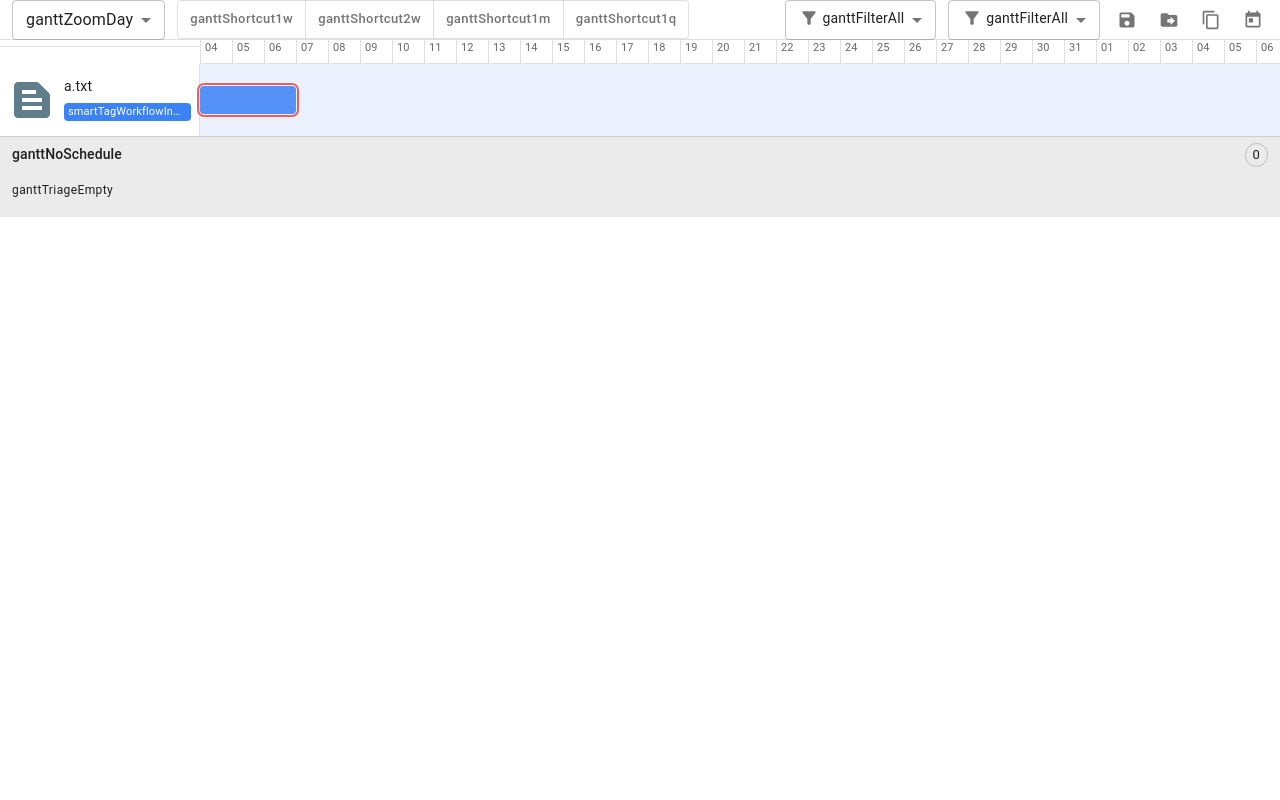
GanttView #12: left-click taskbar pops the period dialog › opens PeriodTagDialog with the entry current period on single-click
The image size is (1280, 800).
Press the mouse on the element named "ganttOverdue" at {"x": 248, "y": 100}, box [200,86,296,114]
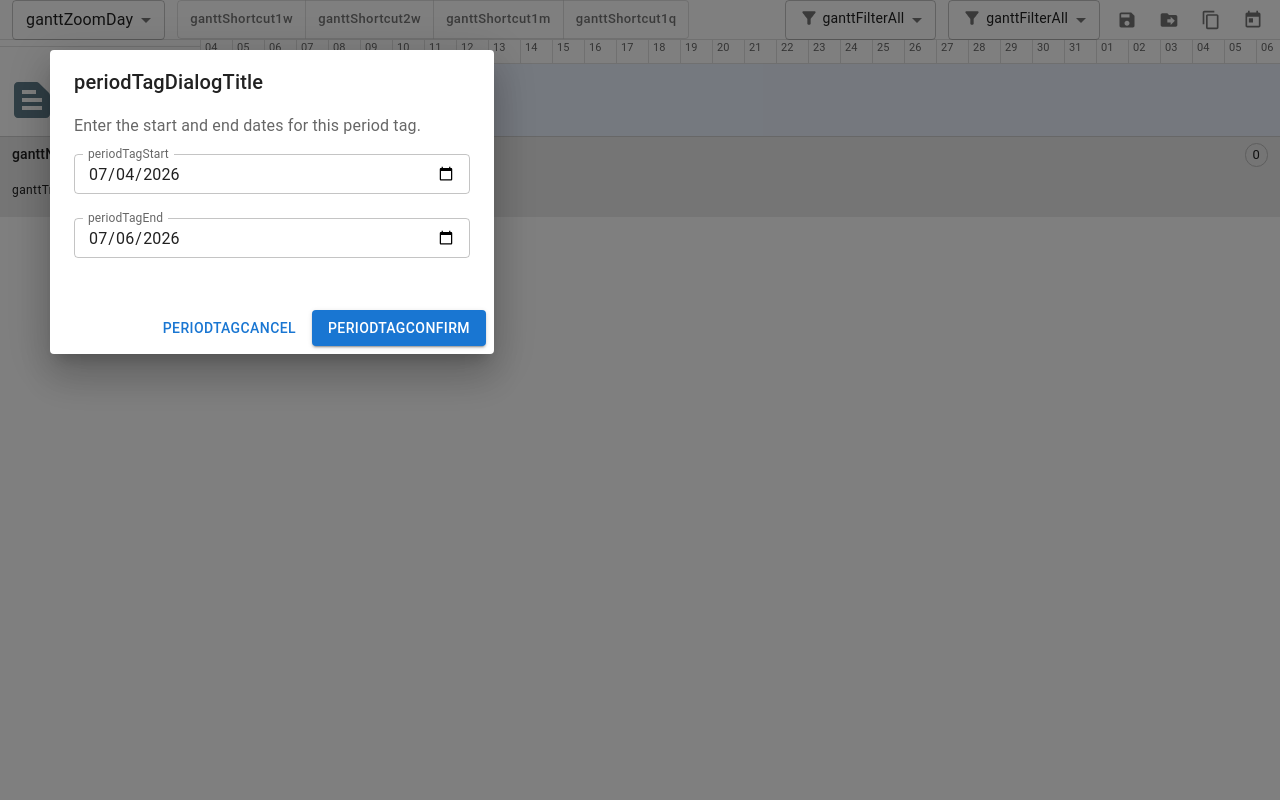
Now the element with test id "period-tag-dialog" is shown
Now the date field with test id "period-tag-end" is shown, box [74,218,470,258]
